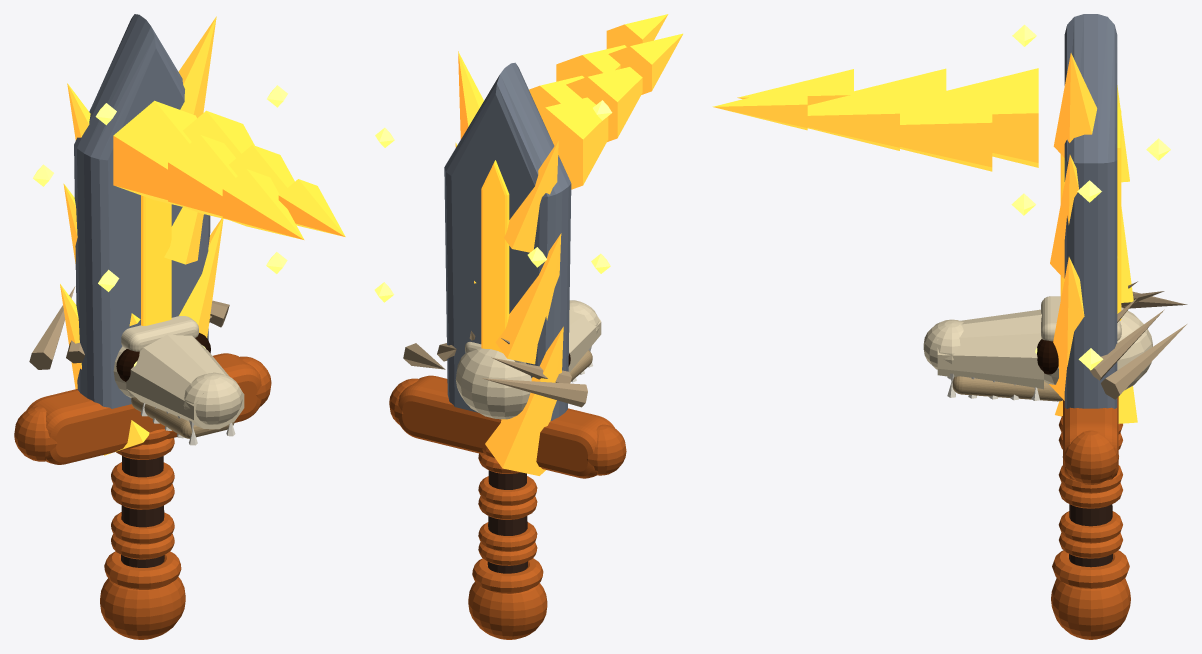
The model's file is drdagger.glb.
3 views of the same model, side by side, from view 1: azimuth 30°, elevation 25°; view 2: azimuth 150°, elevation 25°; view 3: azimuth 270°, elevation 25° (orthographic). The views are drawn at different scales.
Parts seen in each view (by area): view 1: flame, blade, bone, guard, pommel, wrap, fuller, grip, horn, ember, boneDark, socket; view 2: flame, blade, guard, bone, pommel, fuller, wrap, horn, grip, ember; view 3: flame, blade, bone, pommel, guard, wrap, horn, boneDark, ember, fuller, grip.
Part boxes in pixels (bbox=[...]): flame: bbox=[60, 16, 345, 455]; blade: bbox=[74, 14, 210, 408]; bone: bbox=[113, 316, 244, 429]; guard: bbox=[14, 353, 271, 464]; pommel: bbox=[100, 551, 185, 639]; wrap: bbox=[111, 429, 174, 559]; fuller: bbox=[141, 195, 171, 325]; grip: bbox=[121, 456, 164, 567]; horn: bbox=[29, 286, 229, 369]; ember: bbox=[33, 85, 287, 366]; boneDark: bbox=[131, 397, 234, 438]; socket: bbox=[116, 333, 210, 381]; flame: bbox=[455, 14, 682, 475]; blade: bbox=[444, 62, 571, 420]; guard: bbox=[389, 375, 626, 478]; bone: bbox=[455, 300, 601, 419]; pommel: bbox=[468, 558, 547, 639]; fuller: bbox=[481, 160, 509, 352]; wrap: bbox=[478, 446, 537, 565]; horn: bbox=[403, 331, 587, 407]; grip: bbox=[487, 470, 527, 573]; ember: bbox=[374, 100, 612, 302]; flame: bbox=[712, 53, 1137, 423]; blade: bbox=[1064, 14, 1117, 408]; bone: bbox=[923, 296, 1152, 389]; pommel: bbox=[1051, 550, 1130, 639]; guard: bbox=[1062, 397, 1118, 484]; wrap: bbox=[1058, 416, 1122, 558]; horn: bbox=[1088, 281, 1187, 399]; boneDark: bbox=[952, 376, 1063, 401]; ember: bbox=[1011, 24, 1170, 370]; fuller: bbox=[1060, 106, 1121, 320]; grip: bbox=[1069, 504, 1112, 567].
Size of the model in its own units: 1.12 by 2.46 by 1.71.
